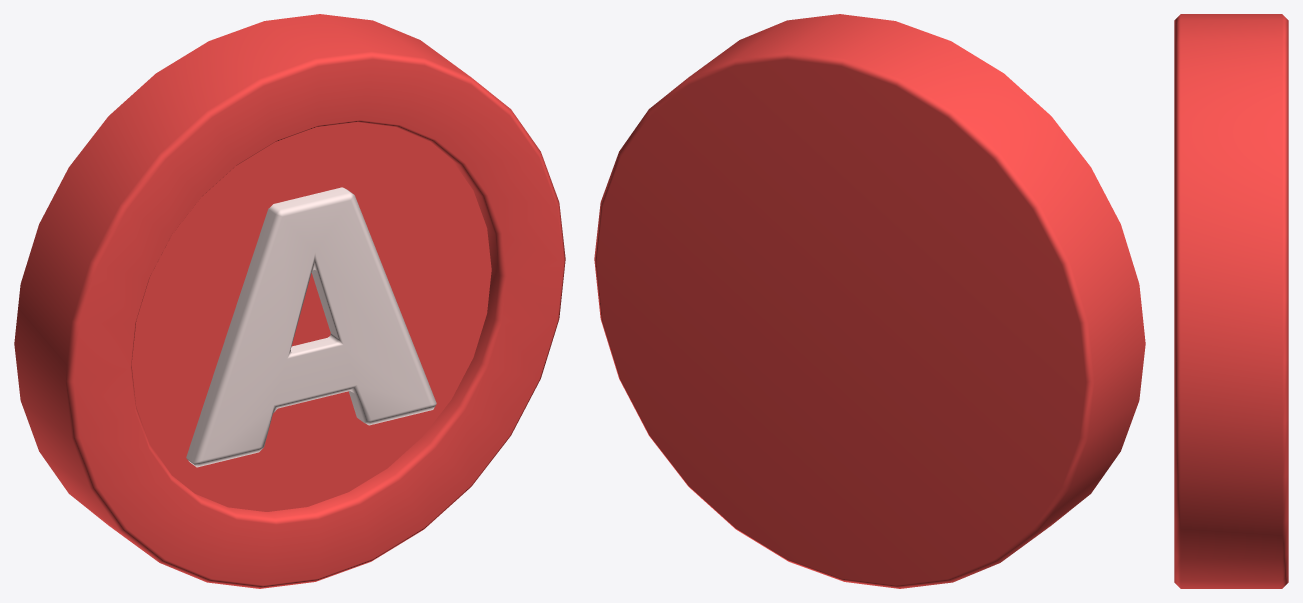
The model's file is Store_15_Vitamin_A_1.glb.
The picture shows the model from 3 angles, left to right: view 1: azimuth 30°, elevation 25°; view 2: azimuth 150°, elevation 25°; view 3: azimuth 270°, elevation 25°; orthographic projection.
Parts seen in each view (by area): view 1: Store_15_Vitamin_A_1; view 2: Store_15_Vitamin_A_1; view 3: Store_15_Vitamin_A_1.
Part boxes in pixels (x1,y1,x2,y2): Store_15_Vitamin_A_1: [14, 14, 565, 588]; Store_15_Vitamin_A_1: [594, 14, 1145, 588]; Store_15_Vitamin_A_1: [1174, 14, 1288, 588].
Bounding box in the file's own units: 1.92 × 1.92 × 0.3815.
1 material, 1 textured.
